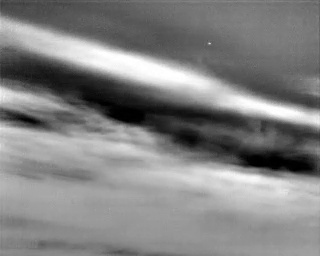BIRD: (206, 39, 213, 47)
